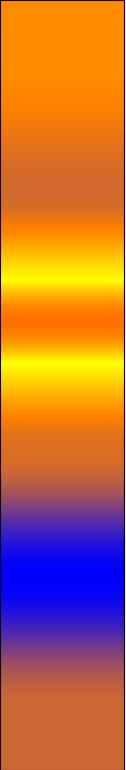Thermal Runaway: (9, 236, 116, 441), (7, 5, 120, 145)
critical: (11, 652, 118, 762), (11, 450, 118, 502), (8, 159, 123, 203)
safe: (13, 520, 114, 636)
